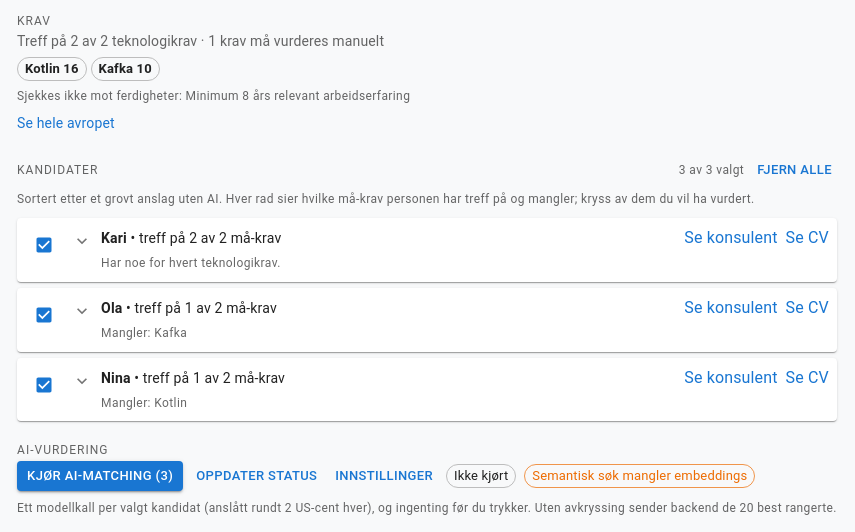
RequestMatchPanel › lets the operator clear and restore the whole selection
Expected: the text "3 av 3 valgt" is shown, [679,160,744,180]
Click the button "Fjern alle".
click(794, 170)  # box [752,155,837,186]
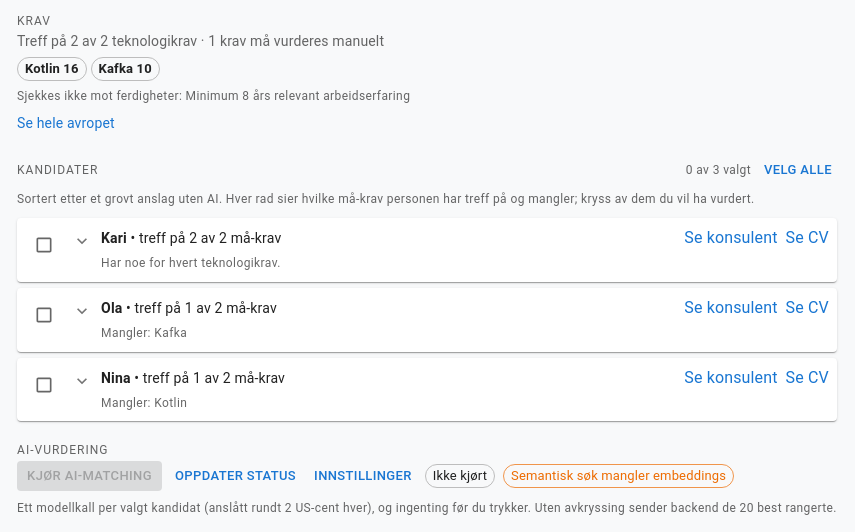
Result: the text "0 av 3 valgt" is shown at [686,160,751,180]
Result: the button "Kjør AI-matching" is disabled at [17,461,162,492]
Click the button "Velg alle".
click(798, 170)  # box [759,155,837,186]
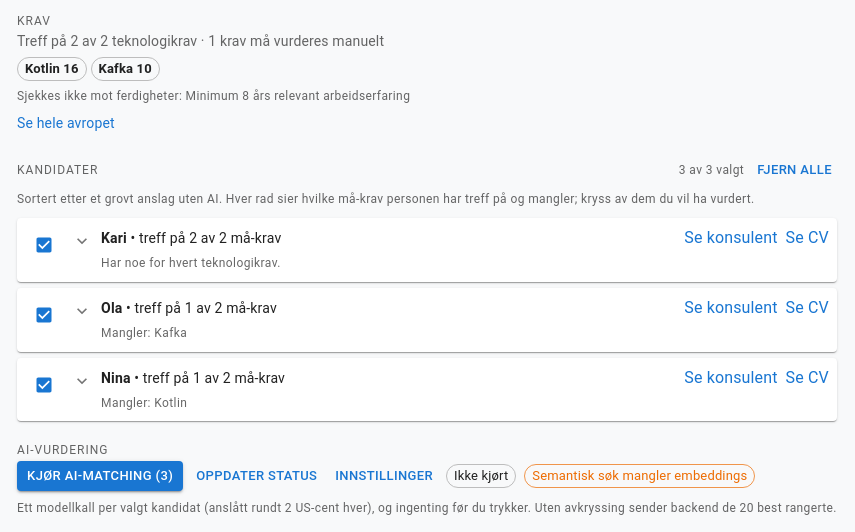
Result: the text "3 av 3 valgt" is shown at [679,160,744,180]
